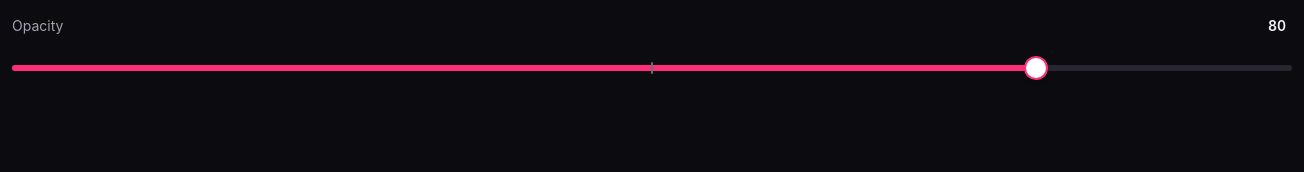
Test: Slider › double-tap resets to the default
This screenshot has width=1304, height=172.
Press the mouse on the slider at [1036, 68], box 1024,56 -> 1048,80
Press the mouse on the slider at [1036, 68], box 1024,56 -> 1048,80
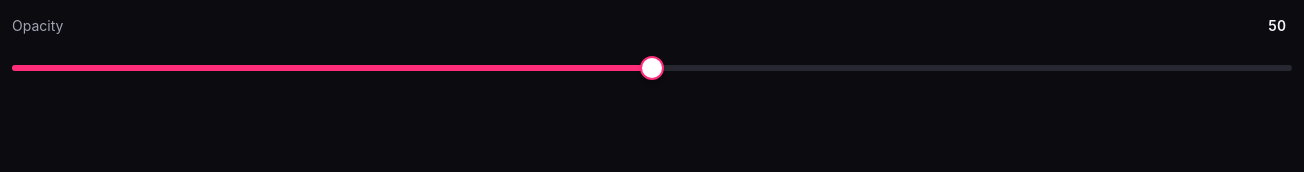
Now the slider has attribute aria-valuenow="50", box 640,56 -> 664,80
